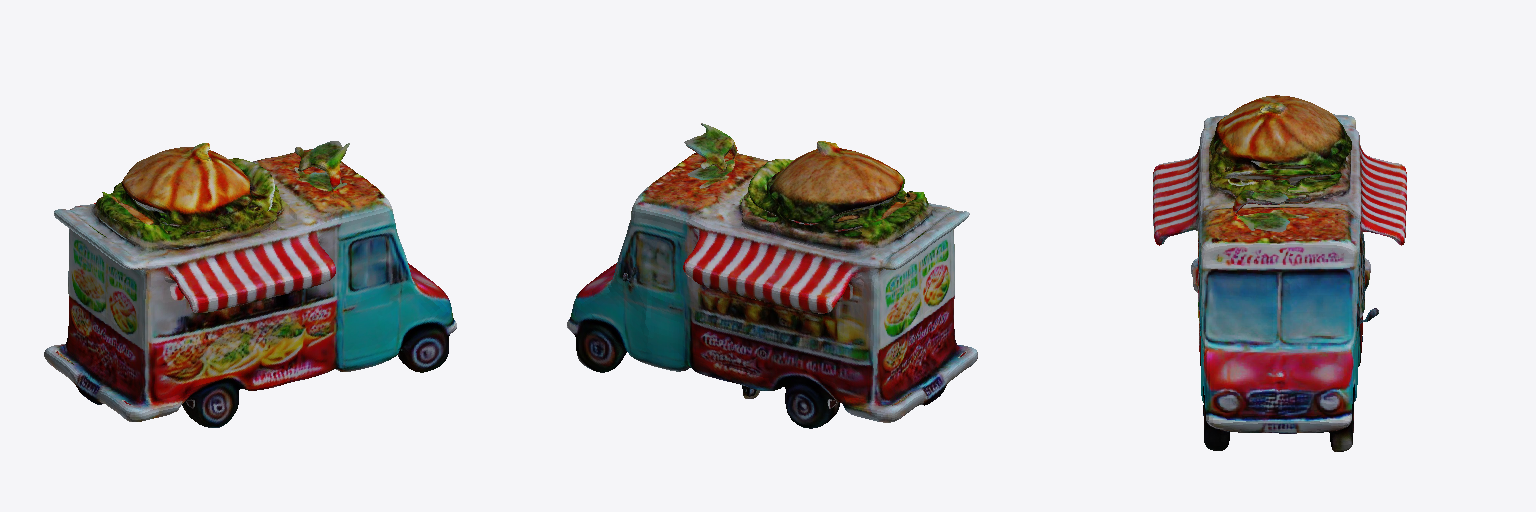
The picture shows the model from 3 angles: view 1: azimuth 30°, elevation 25°; view 2: azimuth 150°, elevation 25°; view 3: azimuth 270°, elevation 25°; orthographic projection.
Parts seen in each view (by area): view 1: mesh; view 2: mesh; view 3: mesh.
Part boxes in pixels (x1,y1,x2,y2): mesh: (44,141,456,427); mesh: (567,123,977,428); mesh: (1153,95,1406,451).
Size of the model in its own units: 0.9993 by 0.7087 by 0.6464.
1 materials, 1 textured.